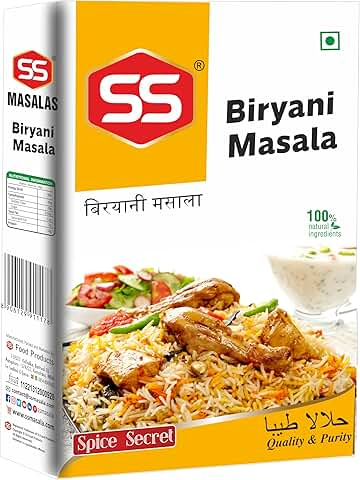Biryani: (5, 4, 360, 478)
